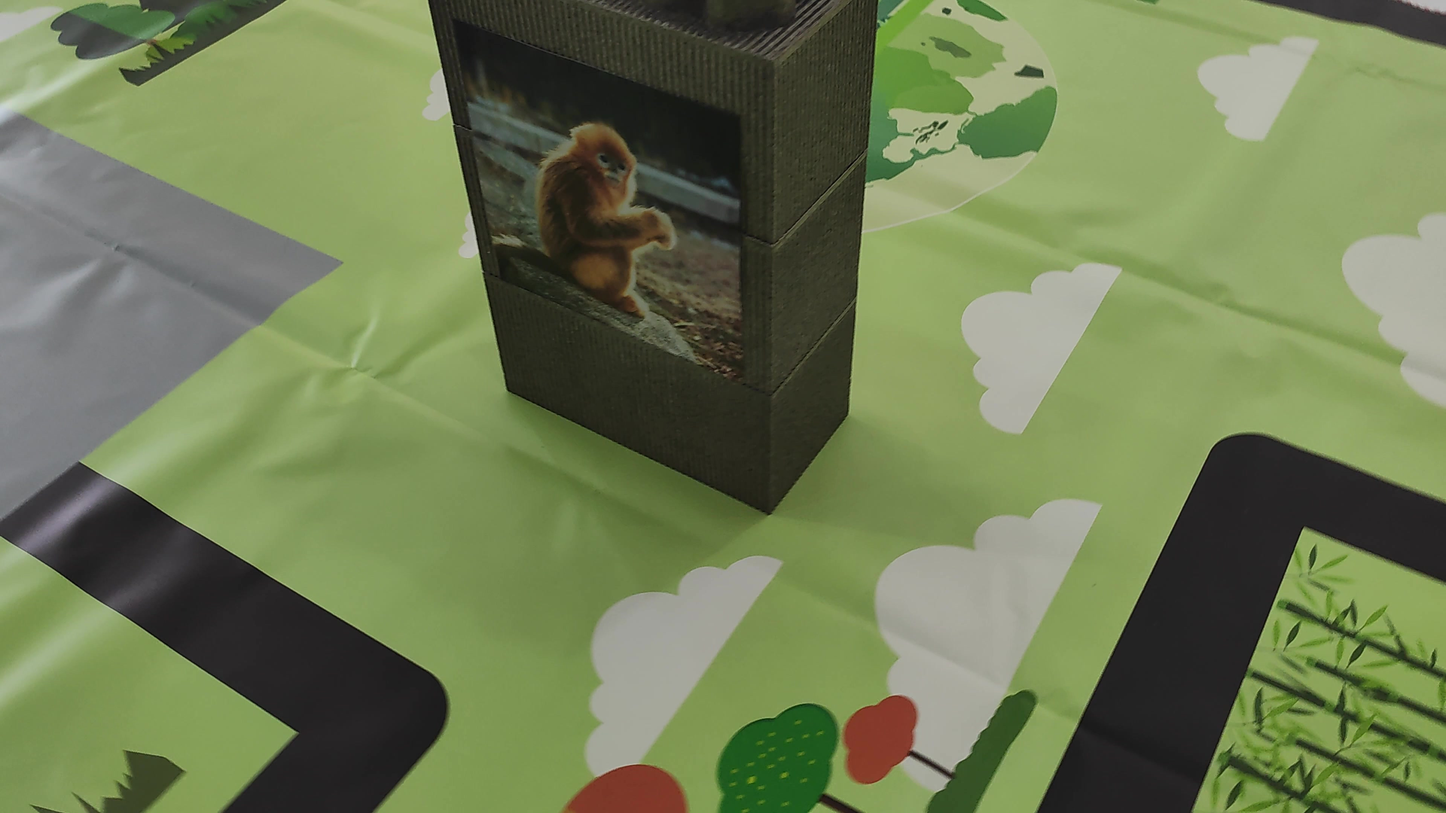monkey: (510, 104, 696, 300)
